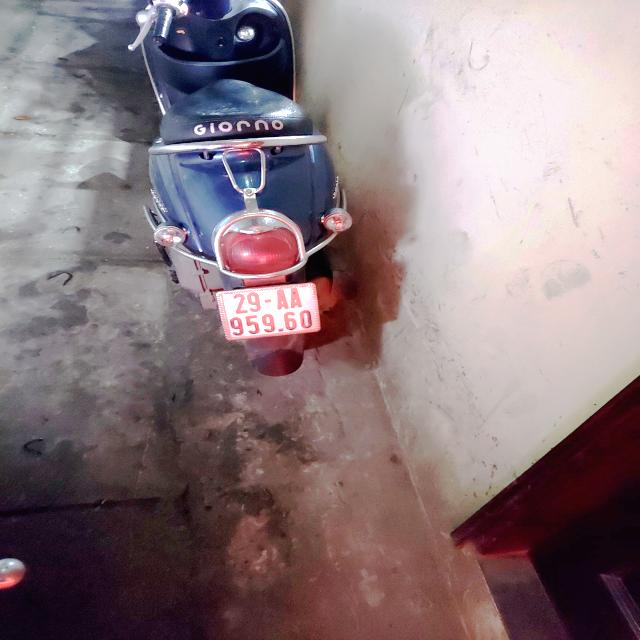license_plate: (208, 278, 331, 348)
